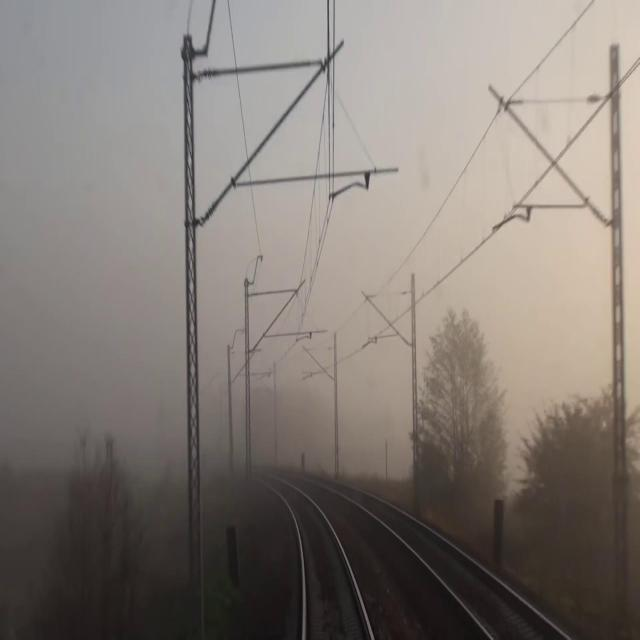rail-track: (352, 494, 561, 639), (277, 485, 369, 639)
